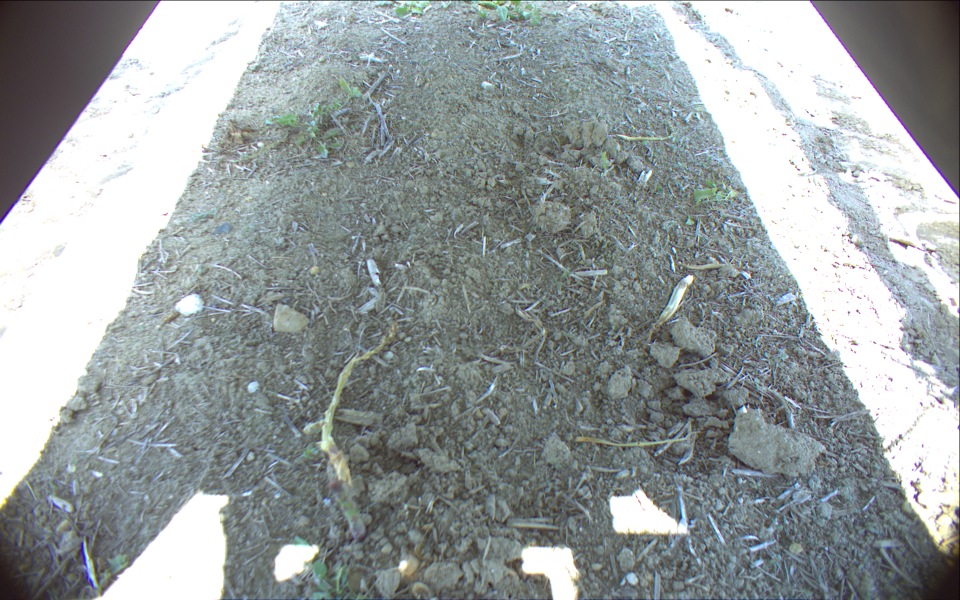aspa: (320, 321, 399, 484), (572, 435, 689, 448), (608, 121, 676, 142)
